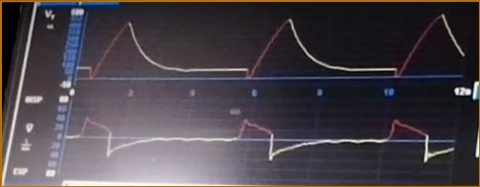Flow: (69, 113, 453, 176)
Leakage Volume: (84, 13, 468, 84)
